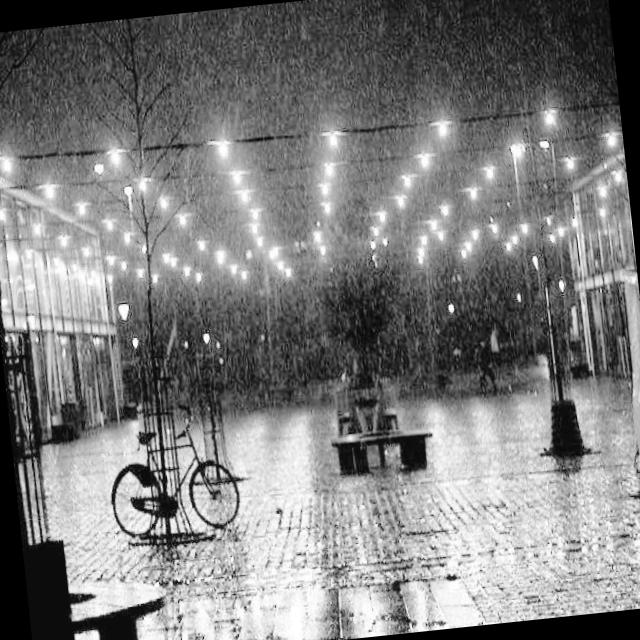Bicycle: (101, 414, 274, 566)
